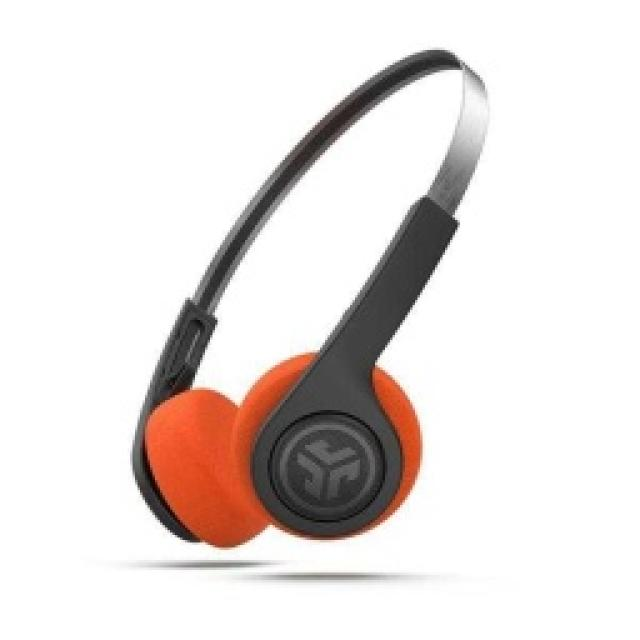headphones: (128, 45, 490, 547)
